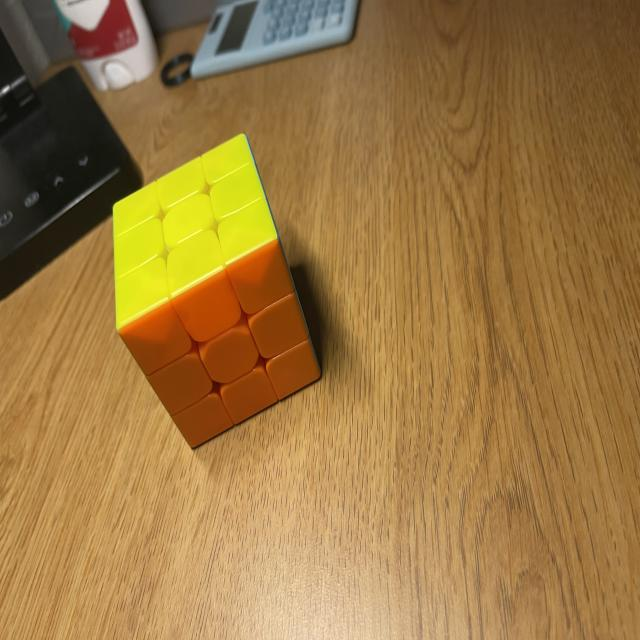Rubiks Cube: (113, 131, 322, 450)
